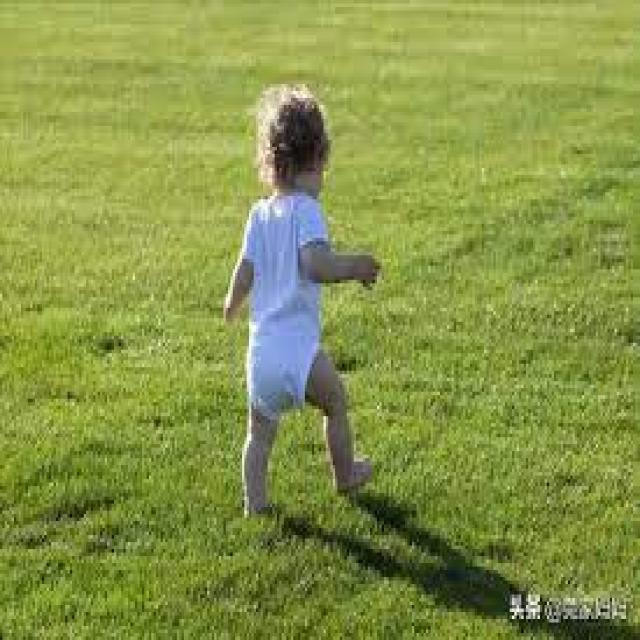Person: (227, 86, 381, 510)
